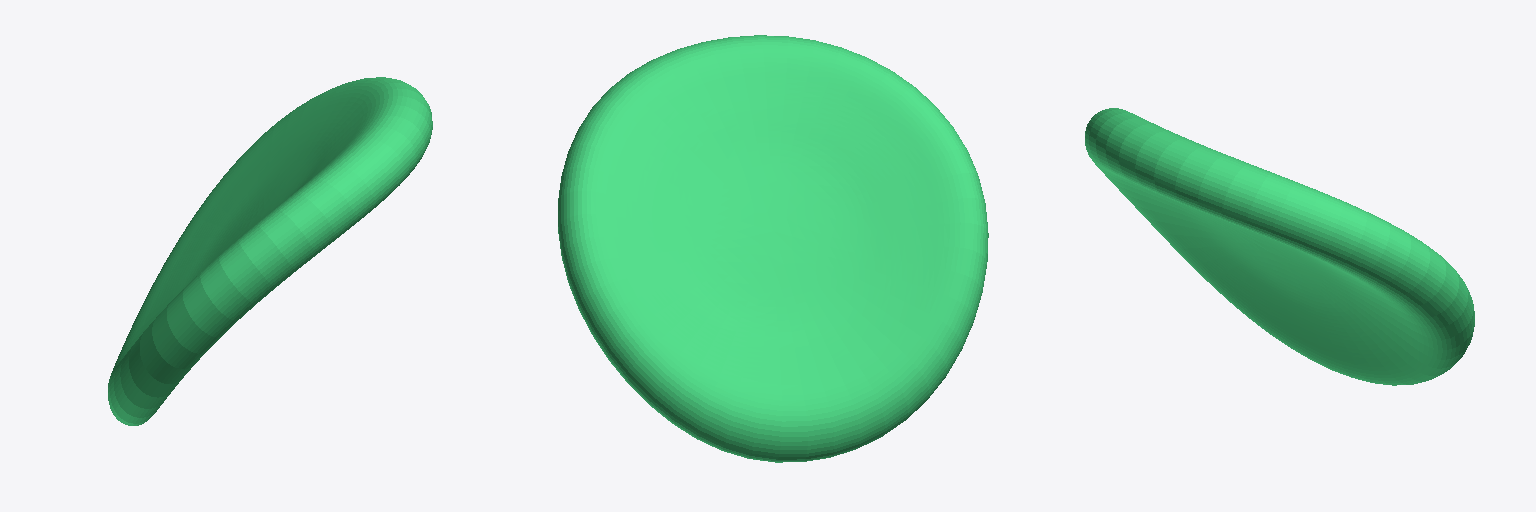
The model's file is blood_cell.obj.
3 views of the same model, side by side, from view 1: azimuth 30°, elevation 25°; view 2: azimuth 150°, elevation 25°; view 3: azimuth 270°, elevation 25° (orthographic).
Parts seen in each view (by area): view 1: NGon02; view 2: NGon02; view 3: NGon02.
Part boxes in pixels (left/top/right/bottom): NGon02: left=108, top=77, right=432, bottom=425; NGon02: left=558, top=35, right=988, bottom=462; NGon02: left=1085, top=108, right=1474, bottom=385.
Bounding box in the file's own units: 9.56 × 8.7 × 9.8.